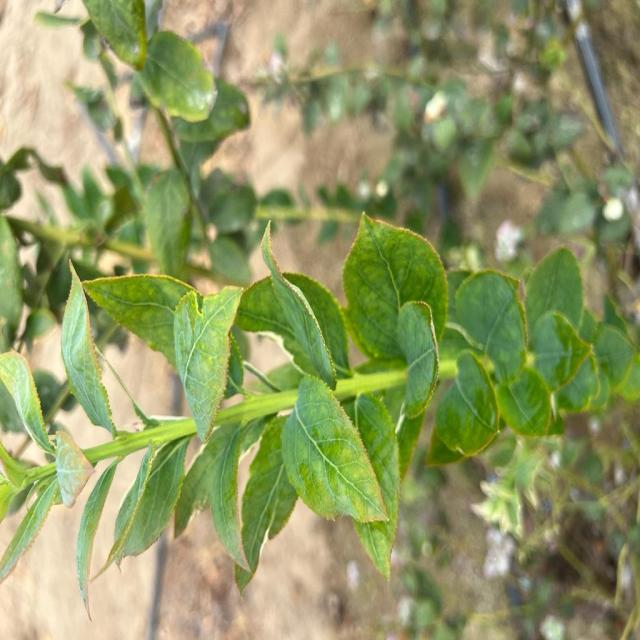Hojas sanas sin oidiosis: (79, 271, 247, 398), (278, 372, 390, 528), (343, 207, 446, 371), (431, 351, 504, 456)
